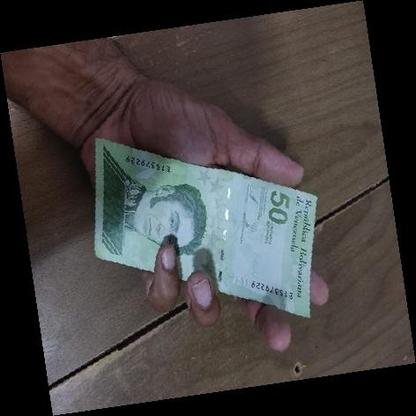fifty-front-vef: (92, 137, 316, 318)
